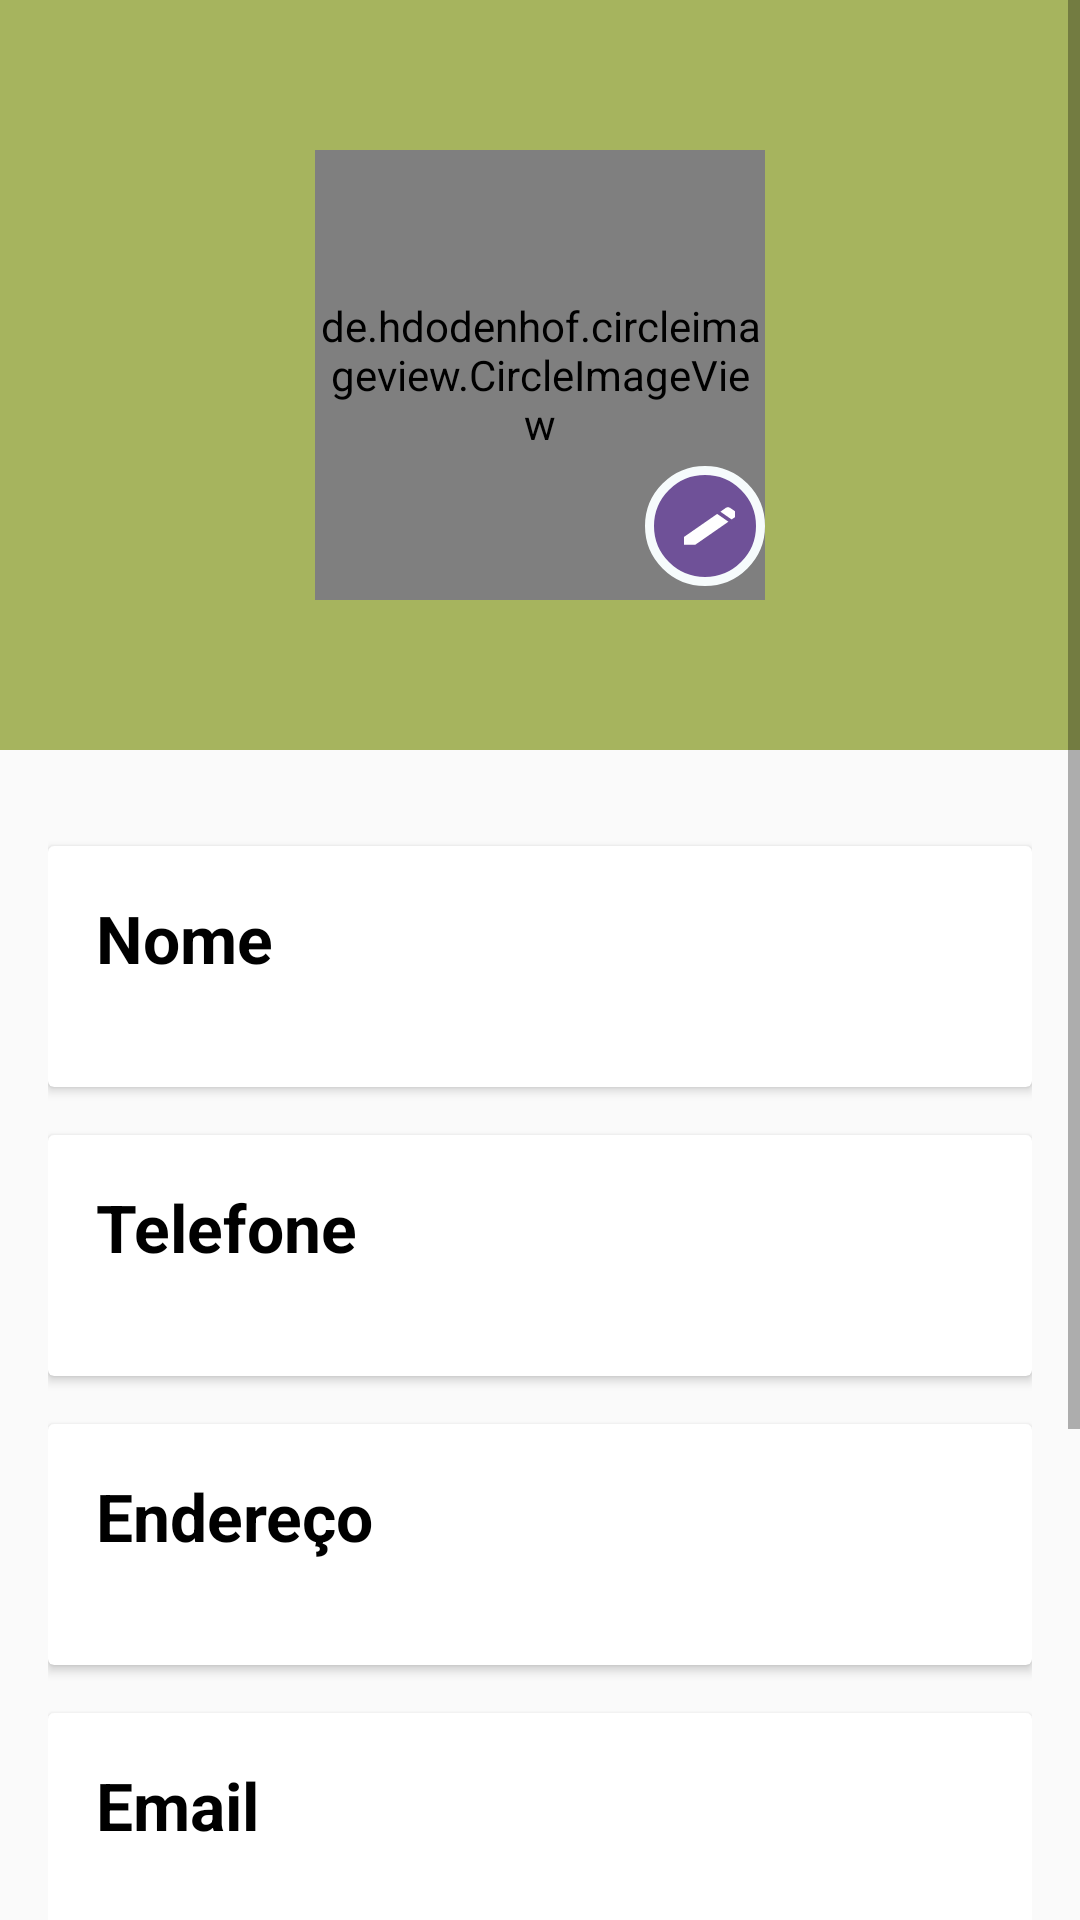

Icons on this 1080px×1920px Android screen, each with its box as {"left": x1, "top": y1, "right": x2, "bottom": y2}:
Botão para atualizar a foto: {"left": 645, "top": 466, "right": 765, "bottom": 586}
